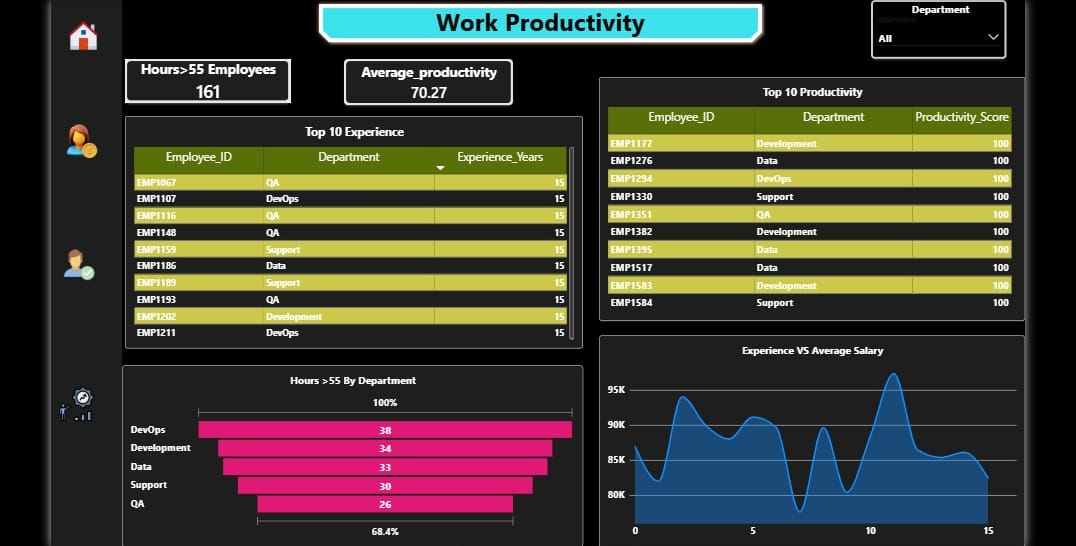

The page's visual inventory and layout, read from the dashboard file:
{"tool":"powerbi","page":{"name":"emp_productivity","canvas":[1920,1080],"ordinal":3},"visuals":[{"type":"shape","box":[0,0,140,1080],"z":0},{"type":"shape","box":[520,0,888.9,91.1],"z":1000},{"type":"slicer","title":"Department ","fields":{"Values":["employee_db employee_performance.Department"]},"box":[1615.6,0,266.7,115.6],"z":2000},{"type":"group","id":"g1","title":"Group 1","box":[577.8,115.6,333.3,91.1],"z":3000},{"type":"group","id":"g2","title":"Group 2","box":[146.7,115.6,326.7,86.7],"z":4000},{"type":"tableEx","title":"Top 10 Experience","fields":{"Values":["employee_db employee_performance.Employee_ID","employee_db employee_performance.Department","employee_db employee_performance.Experience_Years"]},"box":[146.7,228.9,902.2,457.8],"z":5000},{"type":"tableEx","title":"Top 10 Productivity","fields":{"Values":["employee_db employee_performance.Employee_ID","employee_db employee_performance.Department","employee_db employee_performance.Productivity_Score"]},"box":[1080,151.1,840,480],"z":6000},{"type":"image","box":[28.9,28.9,68.9,80],"z":7000},{"type":"cardVisual","title":"Perfect Attendance & Low Rating","fields":{"Data":["employee_db employee_performance.Hours_Above_55"]},"box":[146.7,115.6,326.7,86.7],"z":7000,"group":"g3"},{"type":"cardVisual","fields":{"Data":["employee_db employee_performance.Average_productivity"]},"box":[577.8,115.6,333.3,91.1],"z":7000,"group":"g1"},{"type":"image","box":[24.4,228.9,73.3,95.6],"z":8000},{"type":"image","box":[24.4,473.3,62.2,95.6],"z":9000},{"type":"group","id":"g3","title":"Group 1","box":[146.7,115.6,326.7,86.7],"z":10000,"group":"g2"},{"type":"image","box":[13.3,720,73.3,153.3],"z":10000},{"type":"funnel","title":"Hours >55 By Department","fields":{"Category":["employee_db employee_performance.Department"],"Y":["employee_db employee_performance.Hours_Above_55"]},"box":[140,720,908.9,360],"z":11000},{"type":"areaChart","title":"Experience VS Average Salary","fields":{"Category":["employee_db employee_performance.Experience_Years"],"Y":["Avg(employee_db employee_performance.Monthly_Salary)"]},"box":[1080,660,840,420],"z":12000}]}

Visuals, with their boxes on the page's 1920x1080 design canvas (x1, y1, x2, y2). These are canvas units, not pixel positions in the 1076x546 screenshot, which may show the page scaled, cropped or inside an application window:
shape: box=[0, 0, 140, 1080]
shape: box=[520, 0, 1409, 91]
"Department " slicer: box=[1616, 0, 1882, 116]
"Group 1" group: box=[578, 116, 911, 207]
"Group 2" group: box=[147, 116, 473, 202]
"Top 10 Experience" tableEx: box=[147, 229, 1049, 687]
"Top 10 Productivity" tableEx: box=[1080, 151, 1920, 631]
image: box=[29, 29, 98, 109]
"Perfect Attendance & Low Rating" cardVisual: box=[147, 116, 473, 202]
cardVisual - employee_db employee_performance.Average_productivity: box=[578, 116, 911, 207]
image: box=[24, 229, 98, 324]
image: box=[24, 473, 87, 569]
"Group 1" group: box=[147, 116, 473, 202]
image: box=[13, 720, 87, 873]
"Hours >55 By Department" funnel: box=[140, 720, 1049, 1080]
"Experience VS Average Salary" areaChart: box=[1080, 660, 1920, 1080]
